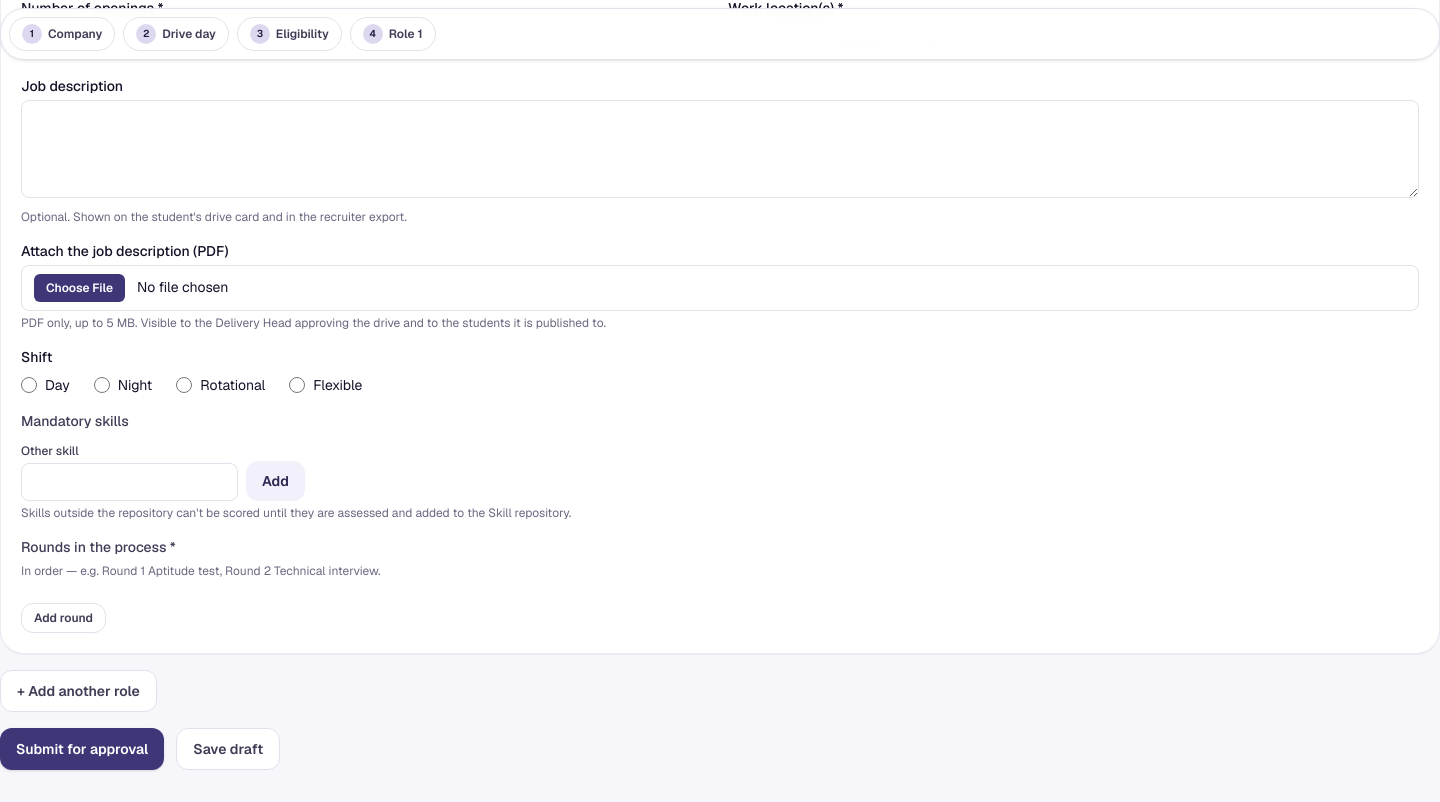
Test: PifForm › refuses to submit an empty PIF and says what is missing
(page scrolled)
Click the button "Submit for approval": {"x": 82, "y": 749} [0,728,164,770]
(page scrolled)
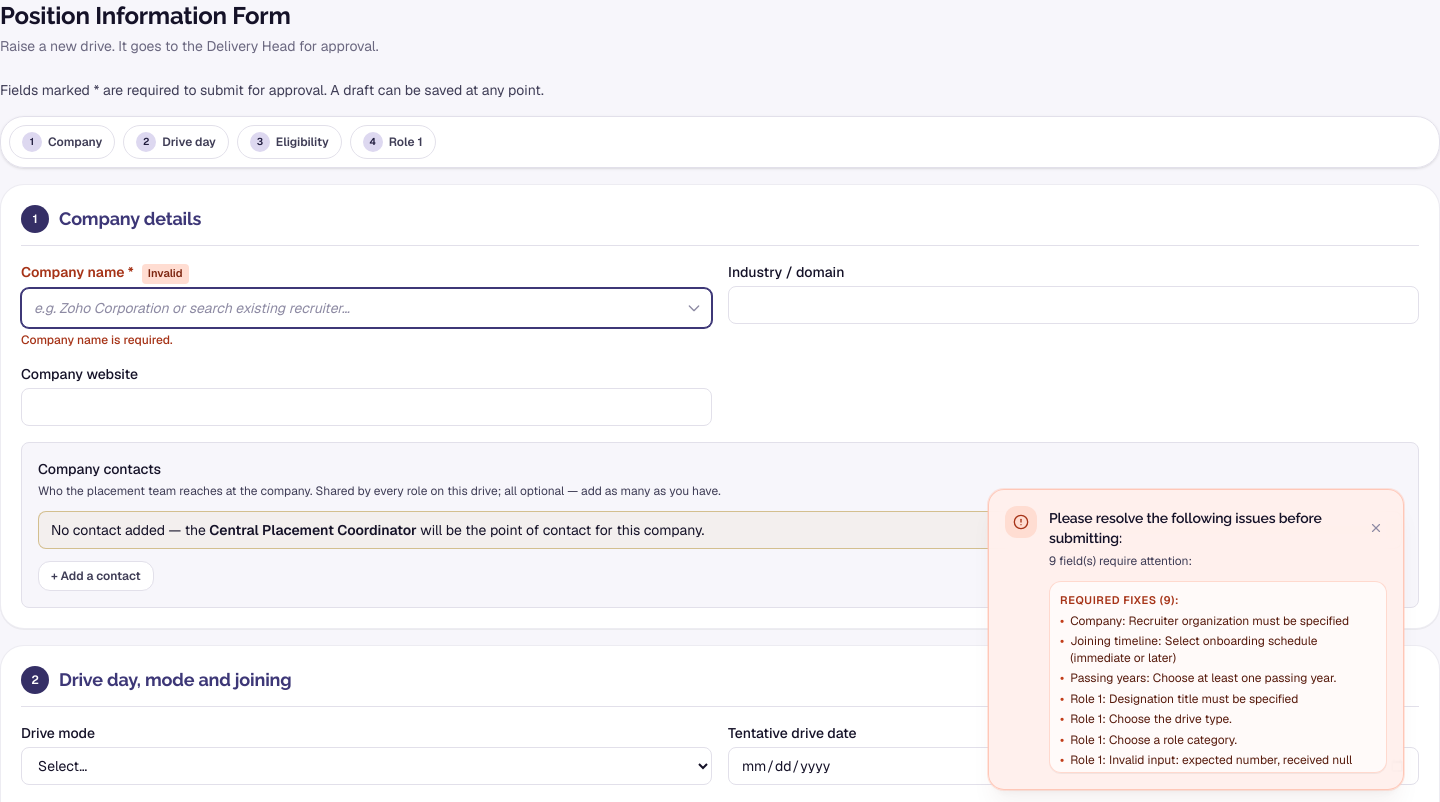
Result: the text "Company name is required." is shown at [21,332,173,348]
